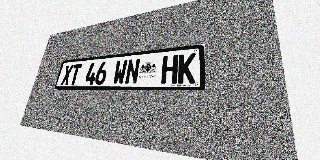4: (84, 62, 99, 85)
6: (94, 61, 109, 85)
H: (161, 55, 178, 84)
K: (177, 53, 196, 84)
N: (124, 58, 141, 84)
T: (68, 64, 82, 85)
W: (112, 59, 128, 85)
X: (60, 65, 74, 85)
